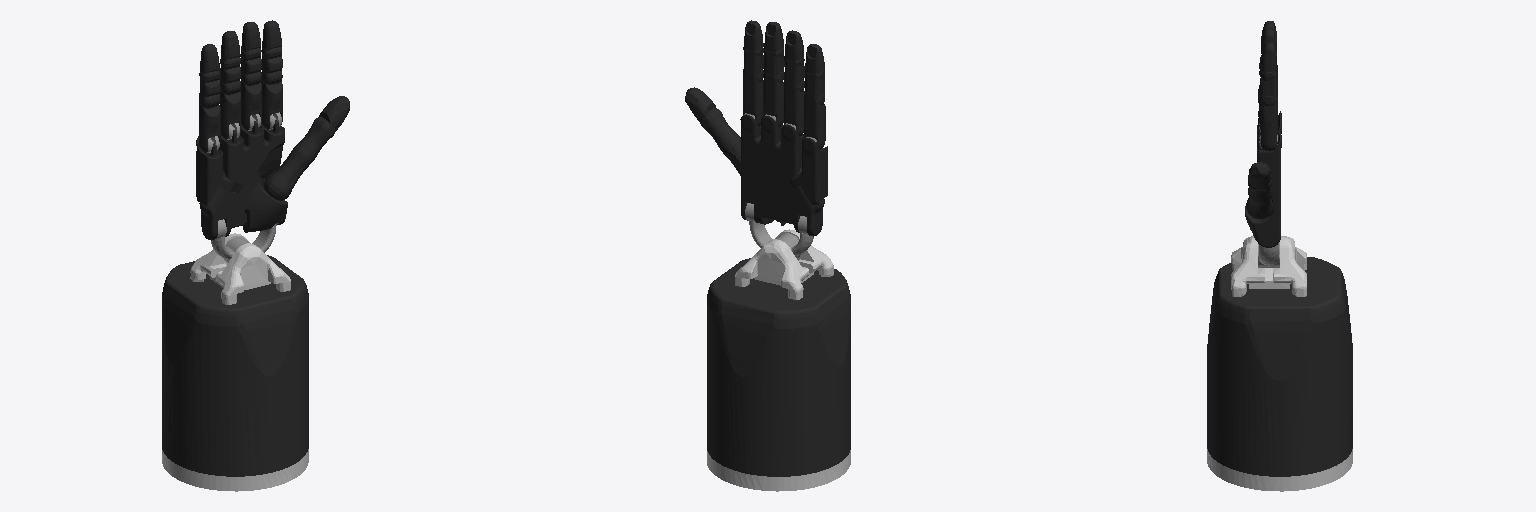
--- What the picture shows (computed from the rendered views, not written in the file) ---
The picture shows the robot from 3 angles, left to right: view 1: azimuth 30°, elevation 25°; view 2: azimuth 150°, elevation 25°; view 3: azimuth 270°, elevation 25°; orthographic projection.
Model shadowhand_motor with 32 links and 31 joints (24 revolute, 7 fixed), rooted at rh_forearm, posed all joints at 0.
Visible links, largest first — view 1: rh_forearm, rh_palm, rh_lfmetacarpal, rh_thproximal, rh_wrist, rh_thmiddle, rh_lfproximal, rh_mfproximal, rh_ffproximal, rh_rfproximal, rh_mfmiddle, rh_lfmiddle (+3 smaller); view 2: rh_forearm, rh_palm, rh_lfmetacarpal, rh_wrist, rh_thmiddle, rh_lfproximal, rh_mfproximal, rh_rfproximal, rh_ffproximal, rh_thdistal, rh_mfmiddle, rh_rfmiddle (+2 smaller); view 3: rh_forearm, rh_palm, rh_ffproximal, rh_ffmiddle.
Link boxes in pixels (bbox=[...]): rh_forearm: bbox=[162, 233, 308, 491]; rh_palm: bbox=[199, 120, 287, 240]; rh_lfmetacarpal: bbox=[196, 136, 237, 205]; rh_thproximal: bbox=[264, 149, 308, 200]; rh_wrist: bbox=[211, 219, 278, 262]; rh_thmiddle: bbox=[293, 116, 335, 164]; rh_lfproximal: bbox=[199, 103, 220, 152]; rh_mfproximal: bbox=[240, 81, 261, 130]; rh_ffproximal: bbox=[261, 81, 282, 129]; rh_rfproximal: bbox=[220, 92, 240, 139]; rh_mfmiddle: bbox=[241, 48, 261, 85]; rh_lfmiddle: bbox=[199, 70, 220, 108]; rh_forearm: bbox=[707, 229, 850, 491]; rh_palm: bbox=[740, 114, 824, 236]; rh_lfmetacarpal: bbox=[788, 138, 827, 204]; rh_wrist: bbox=[745, 203, 813, 257]; rh_thmiddle: bbox=[700, 108, 740, 154]; rh_lfproximal: bbox=[804, 99, 825, 149]; rh_mfproximal: bbox=[763, 77, 783, 127]; rh_rfproximal: bbox=[784, 85, 804, 135]; rh_ffproximal: bbox=[743, 75, 762, 126]; rh_thdistal: bbox=[685, 87, 715, 121]; rh_mfmiddle: bbox=[763, 48, 784, 82]; rh_rfmiddle: bbox=[784, 56, 804, 91]; rh_forearm: bbox=[1207, 236, 1352, 491]; rh_palm: bbox=[1245, 113, 1281, 247]; rh_ffproximal: bbox=[1258, 99, 1277, 151]; rh_ffmiddle: bbox=[1259, 70, 1277, 105].
Bounding box of the posed robot: 0.1784 × 0.1351 × 0.4454 m (x, y, z).
23 mesh visuals loaded from 11 distinct referenced files (11 Collada DAE).

robot.urdf — shadowhand_motor:
<?xml version="1.0" ?>
<!-- =================================================================================== -->
<!-- |    This document was autogenerated by xacro from shadowhand_motor.urdf.xacro    | -->
<!-- |    EDITING THIS FILE BY HAND IS NOT RECOMMENDED                                 | -->
<!-- =================================================================================== -->
<robot name="shadowhand_motor" xmlns:body="http://playerstage.sourceforge.net/gazebo/xmlschema/#body" xmlns:controller="http://playerstage.sourceforge.net/gazebo/xmlschema/#controller" xmlns:geom="http://playerstage.sourceforge.net/gazebo/xmlschema/#geom" xmlns:interface="http://playerstage.sourceforge.net/gazebo/xmlschema/#interface" xmlns:joint="http://playerstage.sourceforge.net/gazebo/xmlschema/#slider" xmlns:sensor="http://playerstage.sourceforge.net/gazebo/xmlschema/#sensor" xmlns:xacro="http://www.ros.org/wiki/xacro">
  <material name="Blue">
    <color rgba="0.0 0.0 0.8 1.0"/>
  </material>
  <material name="Green">
    <color rgba="0.0 0.8 0.0 1.0"/>
  </material>
  <material name="BiotacGreen">
    <color rgba="0.31 0.85 0.42 1.0"/>
  </material>
  <material name="Grey">
    <color rgba="0.2 0.2 0.2 1.0"/>
  </material>
  <material name="LightGrey">
    <color rgba="0.6 0.6 0.6 1.0"/>
  </material>
  <material name="Red">
    <color rgba="0.8 0.0 0.0 1.0"/>
  </material>
  <material name="White">
    <color rgba="1.0 1.0 1.0 1.0"/>
  </material>
  <gazebo>
    <plugin filename="libgazebo_ros_control.so" name="gazebo_ros_control">
      <robotSimType>sr_gazebo_sim/SrGazeboHWSim</robotSimType>
    </plugin>
  </gazebo>
  <!-- hand with cylindrical base drifts in gazebo, attach it to the world -->
  <!--link name="world"/>
  <joint name="rh_world_joint" type="fixed">
    <parent link="world"/>
    <child link="rh_forearm"/>
    <origin rpy="0.0 0.0 0.0" xyz="0.0 0.0 0.0"/>
  </joint-->  <!-- in pybullet, the inertia need to be specified even for dummy links, otherwise it will put an identity inertia and a mass of 1 by default. The base link should be removed if you want the robot to not have a fixed base! -->
  <link name="rh_forearm">
    <inertial>
      <origin rpy="0 0 0" xyz="0 0 0.09"/>
      <mass value="3.0"/>
      <inertia ixx="0.0138" ixy="0.0" ixz="0.0" iyy="0.0138" iyz="0.0" izz="0.00744"/>
    </inertial>
    <visual>
      <origin rpy="0 0 0" xyz="0 0 0"/>
      <geometry name="rh_forearm_visual">
        <mesh filename="meshes/forearm.dae" scale="0.001 0.001 0.001"/>
      </geometry>
      <material name="light_grey"/>
    </visual>
    <collision>
      <origin rpy="0 0 0" xyz="0 0 0.092"/>
      <geometry name="rh_forearm_collision">
        <cylinder length="0.184" radius="0.07"/>
      </geometry>
      <material name="dark_grey">
        <color rgba="0.21961 0.21961 0.21961 1.0"/>
      </material>
    </collision>
    <!-- wrist mount -->
    <collision>
      <origin rpy="0 0.78 0" xyz="0 -0.01 0.181"/>
      <geometry>
        <box size="0.07 0.07 0.07"/>
      </geometry>
    </collision>
  </link>
  <gazebo reference="rh_forearm">
    <selfCollide>false</selfCollide>
  </gazebo>
  <link name="rh_wrist">
    <inertial>
      <origin rpy="0 0 0" xyz="0 0 0.029"/>
      <mass value="0.1"/>
      <inertia ixx="0.000035" ixy="0.0" ixz="0.0" iyy="0.000064" iyz="0.0" izz="0.0000438"/>
    </inertial>
    <visual>
      <origin rpy="0 0 0" xyz="0 0 0"/>
      <geometry name="rh_wrist_visual">
        <mesh filename="meshes/wrist.dae" scale="0.001 0.001 0.001"/>
      </geometry>
      <material name="LightGrey"/>
    </visual>
    <collision>
      <origin rpy="1.5708 1.5708 0" xyz="0 0 0"/>
      <geometry name="rh_wrist_collision_geom">
        <cylinder length="0.030" radius="0.0135"/>
      </geometry>
    </collision>
    <collision>
      <origin rpy="0 1.5708 0" xyz="-0.026 0 0.034"/>
      <geometry>
        <cylinder length="0.010" radius="0.011"/>
      </geometry>
    </collision>
    <collision>
      <origin rpy="0 1.5708 0" xyz="0.031 0 0.034"/>
      <geometry>
        <cylinder length="0.010" radius="0.011"/>
      </geometry>
    </collision>
    <collision>
      <origin rpy="0 0.7854 0" xyz="-0.021 0 0.011"/>
      <geometry>
        <box size="0.027 0.018 0.010"/>
      </geometry>
    </collision>
    <collision>
      <origin rpy="0 -0.7854 0" xyz="0.026 0 0.010"/>
      <geometry>
        <box size="0.027 0.018 0.010"/>
      </geometry>
    </collision>
  </link>
  <gazebo reference="rh_wrist">
    <material>Gazebo/White</material>
    <selfCollide>false</selfCollide>
  </gazebo>
  <joint name="rh_WRJ2" type="revolute">
    <parent link="rh_forearm"/>
    <child link="rh_wrist"/>
    <origin rpy="0 0 0" xyz="0 -0.010 0.213"/>
    <axis xyz="0 1.0 0"/>
    <limit effort="10" lower="-0.523598775598" upper="0.174532925199" velocity="2.0"/>
    <dynamics damping="0.1"/>
  </joint>
  <gazebo reference="rh_WRJ2">
    <provideFeedback>1</provideFeedback>
    <implicitSpringDamper>1</implicitSpringDamper>
  </gazebo>
  <transmission name="rh_wrist_transmission">
    <type>sr_mechanism_model/SimpleTransmission</type>
    <actuator name="rh_WRJ2">
      <mechanicalReduction>1</mechanicalReduction>
    </actuator>
    <joint name="rh_WRJ2">
      <hardwareInterface>EffortJointInterface</hardwareInterface>
      <hardwareInterface>PositionJointInterface</hardwareInterface>
    </joint>
  </transmission>
  <link name="rh_palm">
    <inertial>
      <origin rpy="0 0 0" xyz="0 0 0.035"/>
      <mass value="0.3"/>
      <inertia ixx="0.0003581" ixy="0.0" ixz="0.0" iyy="0.0005287" iyz="0.0" izz="0.000191"/>
    </inertial>
    <visual>
      <origin rpy="0 0 0" xyz="0 0 0"/>
      <geometry name="rh_palm_visual">
        <mesh filename="meshes/palm.dae" scale="0.001 0.001 0.001"/>
      </geometry>
      <material name="Grey"/>
    </visual>
    <collision>
      <origin rpy="0 0 0" xyz="0.011 0.0085 0.038"/>
      <geometry name="rh_palm_collision_geom">
        <box size="0.062 0.007 0.098"/>
      </geometry>
    </collision>
    <collision>
      <origin rpy="0 0 0" xyz="-0.002 -0.0035 0.038"/>
      <geometry>
        <box size="0.036 0.017 0.098"/>
      </geometry>
    </collision>
    <!-- palm complement below first finger -->
    <collision>
      <origin rpy="0 0 0" xyz="0.029 -0.0035 0.082"/>
      <geometry>
        <box size="0.026 0.017 0.010"/>
      </geometry>
    </collision>
    <collision>
      <origin rpy="0.2 0 0.25" xyz="0.0265 -0.001 0.070"/>
      <geometry>
        <box size="0.026 0.014 0.018"/>
      </geometry>
    </collision>
    <!-- thumb pulp side -->
    <collision>
      <origin rpy="0 0 0" xyz="0.0315 -0.0085 0.001"/>
      <geometry>
        <box size="0.021 0.027 0.024"/>
      </geometry>
    </collision>
    <!-- thumb pulp central -->
    <collision>
      <origin rpy="0 0 -0.48" xyz="0.0125 -0.015 0.009"/>
      <geometry>
        <box size="0.022 0.005 0.040"/>
      </geometry>
    </collision>
    <!-- above middle finger-->
    <collision>
      <origin rpy="0 0 0" xyz="0.011 0 0.089"/>
      <geometry>
        <box size="0.018 0.024 0.004"/>
      </geometry>
    </collision>
    <!-- metacarpal side-->
    <collision>
      <origin rpy="0 0 0" xyz="-0.03 0 0.009"/>
      <geometry>
        <box size="0.020 0.024 0.040"/>
      </geometry>
    </collision>
  </link>
  <joint name="rh_ee_fixed_joint" type="fixed">
    <parent link="rh_palm"/>
    <child link="rh_manipulator"/>
    <origin rpy="0.0 0.0 0.0" xyz="0.0 0.0 0.05"/>
  </joint>
  <link name="rh_manipulator"/>
  <joint name="rh_WRJ1" type="revolute">
    <parent link="rh_wrist"/>
    <child link="rh_palm"/>
    <origin rpy="0 0 0" xyz="0 0 0.034"/>
    <axis xyz="1 0 0"/>
    <limit effort="30" lower="-0.698131700798" upper="0.488692190558" velocity="2.0"/>
    <dynamics damping="0.1"/>
  </joint>
  <gazebo reference="rh_WRJ1">
    <provideFeedback>1</provideFeedback>
    <implicitSpringDamper>1</implicitSpringDamper>
  </gazebo>
  <link name="rh_imu"/>
  <joint name="rh_palm_to_imu" type="fixed">
    <parent link="rh_palm"/>
    <child link="rh_imu"/>
    <origin rpy="-1.5707963 3.141592 0.0" xyz="0.01785 0.00765 0.049125"/>
  </joint>
  <sensor name="rh_imu" update_rate="100">
    <parent link="rh_imu"/>
    <origin rpy="0 0 0" xyz="0 0 0"/>
  </sensor>
  <transmission name="rh_palm_transmission">
    <type>sr_mechanism_model/SimpleTransmission</type>
    <actuator name="rh_WRJ1">
      <mechanicalReduction>1</mechanicalReduction>
    </actuator>
    <joint name="rh_WRJ1">
      <hardwareInterface>EffortJointInterface</hardwareInterface>
      <hardwareInterface>PositionJointInterface</hardwareInterface>
    </joint>
  </transmission>
  <!-- prefix can be anything but usually is "r_" or  "l_" for right and left hands distinction -->
  <gazebo reference="rh_palm">
    <sensor name="rh_palm_contact" type="contact">
      <always_on>1</always_on>
      <update_rate>1000.0</update_rate>
      <contact>
        <collision>rh_palm_collision</collision>
        <topic>rh_palm_collision</topic>
      </contact>
      <plugin filename="libgazebo_ros_bumper.so" name="rh_palm_gazebo_ros_bumper_controller">
        <alwaysOn>true</alwaysOn>
        <frameName>rh_palm</frameName>
        <updateRate>100.0</updateRate>
        <bumperTopicName>contacts/rh_palm</bumperTopicName>
      </plugin>
    </sensor>
  </gazebo>
  <link name="rh_ffknuckle">
    <inertial>
      <origin rpy="0 0 0" xyz="0 0 0"/>
      <mass value="0.008"/>
      <inertia ixx="0.00000026" ixy="0.0" ixz="0.0" iyy="0.00000026" iyz="0.0" izz="0.00000032"/>
    </inertial>
    <visual>
      <origin rpy="0 0 0" xyz="0 0 0.0005"/>
      <geometry name="rh_ffknuckle_visual">
        <mesh filename="meshes/knuckle.dae" scale="0.001 0.001 0.001"/>
      </geometry>
      <material name="LightGrey"/>
    </visual>
    <collision>
      <origin rpy="0 1.5708 0" xyz="0 0 0"/>
      <geometry name="rh_ffknuckle_collision_geom">
        <cylinder length="0.014" radius="0.007"/>
      </geometry>
    </collision>
  </link>
  <joint name="rh_FFJ4" type="revolute">
    <parent link="rh_palm"/>
    <child link="rh_ffknuckle"/>
    <!--<origin xyz="0.033 0 0.095" rpy="0 0 0" />-->
    <origin rpy="0 0 0" xyz="0.033 0 0.095"/>
    <axis xyz="0 -1.0 0"/>
    <limit effort="2" lower="-0.349065850399" upper="0.349065850399" velocity="2.0"/>
    <dynamics damping="0.1"/>
  </joint>
  <gazebo reference="rh_FFJ4">
    <provideFeedback>1</provideFeedback>
    <implicitSpringDamper>1</implicitSpringDamper>
  </gazebo>
  <transmission name="rh_ffknuckle_transmission">
    <type>sr_mechanism_model/SimpleTransmission</type>
    <actuator name="rh_FFJ4">
      <mechanicalReduction>1</mechanicalReduction>
    </actuator>
    <joint name="rh_FFJ4">
      <hardwareInterface>EffortJointInterface</hardwareInterface>
      <hardwareInterface>PositionJointInterface</hardwareInterface>
    </joint>
  </transmission>
  <!-- prefix can be anything but usually is "r_" or  "l_" for right and left hands distinction -->
  <gazebo reference="rh_ffknuckle">
    <sensor name="rh_ffknuckle_contact" type="contact">
      <always_on>1</always_on>
      <update_rate>1000.0</update_rate>
      <contact>
        <collision>rh_ffknuckle_collision</collision>
        <topic>rh_ffknuckle_collision</topic>
      </contact>
      <plugin filename="libgazebo_ros_bumper.so" name="rh_ffknuckle_gazebo_ros_bumper_controller">
        <alwaysOn>true</alwaysOn>
        <frameName>rh_ffknuckle</frameName>
        <updateRate>100.0</updateRate>
        <bumperTopicName>contacts/rh_ff/knuckle</bumperTopicName>
      </plugin>
    </sensor>
    <material>Gazebo/Grey</material>
  </gazebo>
  <link name="rh_ffproximal">
    <inertial>
      <mass value="0.030"/>
      <origin xyz="0 0 0.0225"/>
      <inertia ixx="0.0000098" ixy="0.0" ixz="0.0" iyy="0.00001" iyz="0.0" izz="0.0000018"/>
    </inertial>
    <visual>
      <origin rpy="0 0 0" xyz="0 0 0"/>
      <geometry name="rh_ffproximal_visual">
        <mesh filename="meshes/F3.dae" scale="0.001 0.001 0.001"/>
      </geometry>
      <material name="Grey"/>
    </visual>
    <collision>
      <origin rpy="0 0 0" xyz="0 0 0.025"/>
      <geometry name="rh_ffproximal_collision_geom">
        <cylinder length="0.040" radius="0.007"/>
      </geometry>
    </collision>
  </link>
  <joint name="rh_FFJ3" type="revolute">
    <parent link="rh_ffknuckle"/>
    <child link="rh_ffproximal"/>
    <origin rpy="0 0 0" xyz="0 0 0"/>
    <axis xyz="1 0 0"/>
    <limit effort="2" lower="0" upper="1.57079632679" velocity="2.0"/>
    <dynamics damping="0.1"/>
  </joint>
  <gazebo reference="rh_FFJ3">
    <provideFeedback>1</provideFeedback>
    <implicitSpringDamper>1</implicitSpringDamper>
  </gazebo>
  <transmission name="rh_ffproximal_transmission">
    <type>sr_mechanism_model/SimpleTransmission</type>
    <actuator name="rh_FFJ3">
      <mechanicalReduction>1</mechanicalReduction>
    </actuator>
    <joint name="rh_FFJ3">
      <hardwareInterface>EffortJointInterface</hardwareInterface>
      <hardwareInterface>PositionJointInterface</hardwareInterface>
    </joint>
  </transmission>
  <!-- prefix can be anything but usually is "r_" or  "l_" for right and left hands distinction -->
  <gazebo reference="rh_ffproximal">
    <sensor name="rh_ffproximal_contact" type="contact">
      <always_on>1</always_on>
      <update_rate>1000.0</update_rate>
      <contact>
        <collision>rh_ffproximal_collision</collision>
        <topic>rh_ffproximal_collision</topic>
      </contact>
      <plugin filename="libgazebo_ros_bumper.so" name="rh_ffproximal_gazebo_ros_bumper_controller">
        <alwaysOn>true</alwaysOn>
        <frameName>rh_ffproximal</frameName>
        <updateRate>100.0</updateRate>
        <bumperTopicName>contacts/rh_ff/proximal</bumperTopicName>
      </plugin>
    </sensor>
    <selfCollide>true</selfCollide>
  </gazebo>
  <link name="rh_ffmiddle">
    <inertial>
      <origin rpy="0 0 0" xyz="0 0 0.0125"/>
      <mass value="0.017"/>
      <inertia ixx="0.0000026" ixy="0.0" ixz="0.0" iyy="0.0000027" iyz="0.0" izz="0.00000087"/>
    </inertial>
    <visual>
      <origin rpy="0 0 0" xyz="0 0 0"/>
      <geometry name="rh_ffmiddle_visual">
        <mesh filename="meshes/F2.dae" scale="0.001 0.001 0.001"/>
      </geometry>
      <material name="Grey"/>
    </visual>
    <collision>
      <origin rpy="0 0 0" xyz="0 0 0.0125"/>
      <geometry name="rh_ffmiddle_collision_geom">
        <cylinder length="0.025" radius="0.007"/>
      </geometry>
    </collision>
    <collision>
      <origin rpy="0 0 0" xyz="0 0 0.0"/>
      <geometry>
        <sphere radius="0.007"/>
      </geometry>
    </collision>
    <collision>
      <origin rpy="0 0 0" xyz="0 0 0.025"/>
      <geometry>
        <sphere radius="0.007"/>
      </geometry>
    </collision>
  </link>
  <joint name="rh_FFJ2" type="revolute">
    <parent link="rh_ffproximal"/>
    <child link="rh_ffmiddle"/>
    <origin rpy="0 0 0" xyz="0 0 0.045"/>
    <axis xyz="1 0 0"/>
    <limit effort="2" lower="0" upper="1.57079632679" velocity="2.0"/>
    <dynamics damping="0.1"/>
  </joint>
  <gazebo reference="rh_FFJ2">
    <provideFeedback>1</provideFeedback>
    <implicitSpringDamper>1</implicitSpringDamper>
  </gazebo>
  <transmission name="rh_ffmiddle_transmission">
    <type>sr_mechanism_model/J0Transmission</type>
    <actuator name="rh_FFJ0">
      <mechanicalReduction>1</mechanicalReduction>
    </actuator>
    <joint name="rh_FFJ1">
      <hardwareInterface>EffortJointInterface</hardwareInterface>
      <hardwareInterface>PositionJointInterface</hardwareInterface>
    </joint>
    <secondJoint name="rh_FFJ2"/>
  </transmission>
  <!-- prefix can be anything but usually is "r_" or  "l_" for right and left hands distinction -->
  <gazebo reference="rh_ffmiddle">
    <sensor name="rh_ffmiddle_contact" type="contact">
      <always_on>1</always_on>
      <update_rate>1000.0</update_rate>
      <contact>
        <collision>rh_ffmiddle_collision</collision>
        <topic>rh_ffmiddle_collision</topic>
      </contact>
      <plugin filename="libgazebo_ros_bumper.so" name="rh_ffproximal_gazebo_ros_bumper_controller">
        <alwaysOn>true</alwaysOn>
        <frameName>rh_ffmiddle</frameName>
        <updateRate>100.0</updateRate>
        <bumperTopicName>contacts/rh_ff/middle</bumperTopicName>
      </plugin>
    </sensor>
    <selfCollide>true</selfCollide>
  </gazebo>
  <link name="rh_ffdistal">
    <inertial>
      <mass value="0.012"/>
      <origin xyz="0 0 0.012"/>
      <inertia ixx="0.00000094" ixy="0.0" ixz="0.0" iyy="0.0000011" iyz="0.0" izz="0.00000053"/>
    </inertial>
    <visual>
      <origin rpy="0 0 0" xyz="0 0 0"/>
      <geometry name="rh_ffdistal_visual">
        <!-- Standard distal  -->
        <mesh filename="meshes/F1.dae" scale="0.001 0.001 0.001"/>
      </geometry>
      <material name="Grey"/>
    </visual>
    <collision>
      <origin rpy="0 0 0" xyz="0 0 0"/>
      <geometry name="rh_ffdistal_collision_geom">
        <!-- Standard distal  -->
        <mesh filename="meshes/F1.dae" scale="0.001 0.001 0.001"/>
      </geometry>
    </collision>
  </link>
  <joint name="rh_FFJ1" type="revolute">
    <parent link="rh_ffmiddle"/>
    <child link="rh_ffdistal"/>
    <origin rpy="0 0 0" xyz="0 0 0.025"/>
    <axis xyz="1 0 0"/>
    <!-- standard distal joint -->
    <limit effort="2" lower="0" upper="1.57079632679" velocity="2.0"/>
    <dynamics damping="0.1"/>
  </joint>
  <gazebo reference="rh_FFJ1">
    <provideFeedback>1</provideFeedback>
    <implicitSpringDamper>1</implicitSpringDamper>
  </gazebo>
  <link name="rh_fftip">
    <inertial>
      <mass value="0.001"/>
      <inertia ixx="0.0" ixy="0.0" ixz="0.0" iyy="0.0" iyz="0.0" izz="0.0"/>
    </inertial>
  </link>
  <joint name="rh_FFtip" type="fixed">
    <parent link="rh_ffdistal"/>
    <child link="rh_fftip"/>
    <origin rpy="0 0 0" xyz="0 0 0.026"/>
  </joint>
  <!-- prefix can be anything but usually is "r_" or  "l_" for right and left hands distinction -->
  <gazebo reference="rh_ffdistal">
    <sensor name="rh_ffdistal_contact" type="contact">
      <always_on>1</always_on>
      <update_rate>1000.0</update_rate>
      <contact>
        <collision>rh_ffdistal_collision</collision>
        <topic>rh_ffdistal_collision</topic>
      </contact>
      <plugin filename="libgazebo_ros_bumper.so" name="rh_ffdistal_gazebo_ros_bumper_controller">
        <alwaysOn>true</alwaysOn>
        <frameName>rh_ffdistal</frameName>
        <updateRate>100.0</updateRate>
        <bumperTopicName>contacts/rh_ff/distal</bumperTopicName>
      </plugin>
    </sensor>
    <mu1 value="500.0"/>
    <mu2 value="500.0"/>
    <kp value="10000000.0"/>
    <kd value="1.0"/>
    <selfCollide>true</selfCollide>
  </gazebo>
  <link name="rh_mfknuckle">
    <inertial>
      <origin rpy="0 0 0" xyz="0 0 0"/>
      <mass value="0.008"/>
      <inertia ixx="0.00000026" ixy="0.0" ixz="0.0" iyy="0.00000026" iyz="0.0" izz="0.00000032"/>
    </inertial>
    <visual>
      <origin rpy="0 0 0" xyz="0 0 0.0005"/>
      <geometry name="rh_mfknuckle_visual">
        <mesh filename="meshes/knuckle.dae" scale="0.001 0.001 0.001"/>
      </geometry>
      <material name="LightGrey"/>
    </visual>
    <collision>
      <origin rpy="0 1.5708 0" xyz="0 0 0"/>
      <geometry name="rh_mfknuckle_collision_geom">
        <cylinder length="0.014" radius="0.007"/>
      </geometry>
    </collision>
  </link>
  <joint name="rh_MFJ4" type="revolute">
    <parent link="rh_palm"/>
    <child link="rh_mfknuckle"/>
    <!--<origin xyz="0.033 0 0.095" rpy="0 0 0" />-->
    <origin rpy="0 0 0" xyz="0.011 0 0.099"/>
    <axis xyz="0 -1.0 0"/>
    <limit effort="2" lower="-0.349065850399" upper="0.349065850399" velocity="2.0"/>
    <dynamics damping="0.1"/>
  </joint>
  <gazebo reference="rh_MFJ4">
    <provideFeedback>1</provideFeedback>
    <implicitSpringDamper>1</implicitSpringDamper>
  </gazebo>
  <transmission name="rh_mfknuckle_transmission">
    <type>sr_mechanism_model/SimpleTransmission</type>
    <actuator name="rh_MFJ4">
      <mechanicalReduction>1</mechanicalReduction>
    </actuator>
    <joint name="rh_MFJ4">
      <hardwareInterface>EffortJointInterface</hardwareInterface>
      <hardwareInterface>PositionJointInterface</hardwareInterface>
    </joint>
  </transmission>
  <!-- prefix can be anything but usually is "r_" or  "l_" for right and left hands distinction -->
  <gazebo reference="rh_mfknuckle">
    <sensor name="rh_mfknuckle_contact" type="contact">
      <always_on>1</always_on>
      <update_rate>1000.0</update_rate>
      <contact>
        <collision>rh_mfknuckle_collision</collision>
        <topic>rh_mfknuckle_collision</topic>
      </contact>
      <plugin filename="libgazebo_ros_bumper.so" name="rh_mfknuckle_gazebo_ros_bumper_controller">
        <alwaysOn>true</alwaysOn>
        <frameName>rh_mfknuckle</frameName>
        <updateRate>100.0</updateRate>
        <bumperTopicName>contacts/rh_mf/knuckle</bumperTopicName>
      </plugin>
    </sensor>
    <material>Gazebo/Grey</material>
  </gazebo>
  <link name="rh_mfproximal">
    <inertial>
      <mass value="0.030"/>
      <origin xyz="0 0 0.0225"/>
      <inertia ixx="0.0000098" ixy="0.0" ixz="0.0" iyy="0.00001" iyz="0.0" izz="0.0000018"/>
    </inertial>
    <visual>
      <origin rpy="0 0 0" xyz="0 0 0"/>
      <geometry name="rh_mfproximal_visual">
        <mesh filename="meshes/F3.dae" scale="0.001 0.001 0.001"/>
      </geometry>
      <material name="Grey"/>
    </visual>
    <collision>
      <origin rpy="0 0 0" xyz="0 0 0.025"/>
      <geometry name="rh_mfproximal_collision_geom">
        <cylinder length="0.040" radius="0.007"/>
      </geometry>
    </collision>
  </link>
  <joint name="rh_MFJ3" type="revolute">
    <parent link="rh_mfknuckle"/>
    <child link="rh_mfproximal"/>
    <origin rpy="0 0 0" xyz="0 0 0"/>
    <axis xyz="1 0 0"/>
    <limit effort="2" lower="0" upper="1.57079632679" velocity="2.0"/>
    <dynamics damping="0.1"/>
  </joint>
  <gazebo reference="rh_MFJ3">
    <provideFeedback>1</provideFeedback>
    <implicitSpringDamper>1</implicitSpringDamper>
  </gazebo>
  <transmission name="rh_mfproximal_transmission">
    <type>sr_mechanism_model/SimpleTransmission</type>
    <actuator name="rh_MFJ3">
      <mechanicalReduction>1</mechanicalReduction>
    </actuator>
    <joint name="rh_MFJ3">
      <hardwareInterface>EffortJointInterface</hardwareInterface>
      <hardwareInterface>PositionJointInterface</hardwareInterface>
    </joint>
  </transmission>
  <!-- prefix can be anything but usually is "r_" or  "l_" for right and left hands distinction -->
  <gazebo reference="rh_mfproximal">
    <sensor name="rh_mfproximal_contact" type="contact">
      <always_on>1</always_on>
      <update_rate>1000.0</update_rate>
      <contact>
        <collision>rh_mfproximal_collision</collision>
        <topic>rh_mfproximal_collision</topic>
      </contact>
      <plugin filename="libgazebo_ros_bumper.so" name="rh_mfproximal_gazebo_ros_bumper_controller">
        <alwaysOn>true</alwaysOn>
        <frameName>rh_mfproximal</frameName>
        <updateRate>100.0</updateRate>
        <bumperTopicName>contacts/rh_mf/proximal</bumperTopicName>
      </plugin>
    </sensor>
    <selfCollide>true</selfCollide>
  </gazebo>
  <link name="rh_mfmiddle">
    <inertial>
      <origin rpy="0 0 0" xyz="0 0 0.0125"/>
      <mass value="0.017"/>
      <inertia ixx="0.0000026" ixy="0.0" ixz="0.0" iyy="0.0000027" iyz="0.0" izz="0.00000087"/>
    </inertial>
    <visual>
      <origin rpy="0 0 0" xyz="0 0 0"/>
      <geometry name="rh_mfmiddle_visual">
        <mesh filename="meshes/F2.dae" scale="0.001 0.001 0.001"/>
      </geometry>
      <material name="Grey"/>
    </visual>
    <collision>
      <origin rpy="0 0 0" xyz="0 0 0.0125"/>
      <geometry name="rh_mfmiddle_collision_geom">
        <cylinder length="0.025" radius="0.007"/>
      </geometry>
    </collision>
    <collision>
      <origin rpy="0 0 0" xyz="0 0 0.0"/>
      <geometry>
        <sphere radius="0.007"/>
      </geometry>
    </collision>
    <collision>
      <origin rpy="0 0 0" xyz="0 0 0.025"/>
      <geometry>
        <sphere radius="0.007"/>
      </geometry>
    </collision>
  </link>
  <joint name="rh_MFJ2" type="revolute">
    <parent link="rh_mfproximal"/>
    <child link="rh_mfmiddle"/>
    <origin rpy="0 0 0" xyz="0 0 0.045"/>
    <axis xyz="1 0 0"/>
    <limit effort="2" lower="0" upper="1.57079632679" velocity="2.0"/>
    <dynamics damping="0.1"/>
  </joint>
  <gazebo reference="rh_MFJ2">
    <provideFeedback>1</provideFeedback>
    <implicitSpringDamper>1</implicitSpringDamper>
  </gazebo>
  <transmission name="rh_mfmiddle_transmission">
    <type>sr_mechanism_model/J0Transmission</type>
    <actuator name="rh_MFJ0">
      <mechanicalReduction>1</mechanicalReduction>
    </actuator>
    <joint name="rh_MFJ1">
      <hardwareInterface>EffortJointInterface</hardwareInterface>
      <hardwareInterface>PositionJointInterface</hardwareInterface>
    </joint>
    <secondJoint name="rh_MFJ2"/>
  </transmission>
  <!-- prefix can be anything but usually is "r_" or  "l_" for right and left hands distinction -->
  <gazebo reference="rh_mfmiddle">
    <sensor name="rh_mfmiddle_contact" type="contact">
      <always_on>1</always_on>
      <update_rate>1000.0</update_rate>
      <contact>
        <collision>rh_mfmiddle_collision</collision>
        <topic>rh_mfmiddle_collision</topic>
      </contact>
      <plugin filename="libgazebo_ros_bumper.so" name="rh_mfproximal_gazebo_ros_bumper_controller">
        <alwaysOn>true</alwaysOn>
        <frameName>rh_mfmiddle</frameName>
        <updateRate>100.0</updateRate>
        <bumperTopicName>contacts/rh_mf/middle</bumperTopicName>
      </plugin>
    </sensor>
    <selfCollide>true</selfCollide>
  </gazebo>
  <link name="rh_mfdistal">
    <inertial>
      <mass value="0.012"/>
      <origin xyz="0 0 0.012"/>
      <inertia ixx="0.00000094" ixy="0.0" ixz="0.0" iyy="0.0000011" iyz="0.0" izz="0.00000053"/>
    </inertial>
    <visual>
      <origin rpy="0 0 0" xyz="0 0 0"/>
      <geometry name="rh_mfdistal_visual">
        <!-- Standard distal  -->
        <mesh filename="meshes/F1.dae" scale="0.001 0.001 0.001"/>
      </geometry>
      <material name="Grey"/>
    </visual>
    <collision>
      <origin rpy="0 0 0" xyz="0 0 0"/>
      <geometry name="rh_mfdistal_collision_geom">
        <!-- Standard distal  -->
        <mesh filename="meshes/F1.dae" scale="0.001 0.001 0.001"/>
      </geometry>
    </collision>
  </link>
  <joint name="rh_MFJ1" type="revolute">
    <parent link="rh_mfmiddle"/>
    <child link="rh_mfdistal"/>
    <origin rpy="0 0 0" xyz="0 0 0.025"/>
    <axis xyz="1 0 0"/>
    <!-- standard distal joint -->
    <limit effort="2" lower="0" upper="1.57079632679" velocity="2.0"/>
    <dynamics damping="0.1"/>
  </joint>
  <gazebo reference="rh_MFJ1">
    <provideFeedback>1</provideFeedback>
    <implicitSpringDamper>1</implicitSpringDamper>
  </gazebo>
  <link name="rh_mftip">
    <inertial>
      <mass value="0.001"/>
      <inertia ixx="0.0" ixy="0.0" ixz="0.0" iyy="0.0" iyz="0.0" izz="0.0"/>
    </inertial>
  </link>
  <joint name="rh_MFtip" type="fixed">
    <parent link="rh_mfdistal"/>
    <child link="rh_mftip"/>
    <origin rpy="0 0 0" xyz="0 0 0.026"/>
  </joint>
  <!-- prefix can be anything but usually is "r_" or  "l_" for right and left hands distinction -->
  <gazebo reference="rh_mfdistal">
    <sensor name="rh_mfdistal_contact" type="contact">
      <always_on>1</always_on>
      <update_rate>1000.0</update_rate>
      <contact>
        <collision>rh_mfdistal_collision</collision>
        <topic>rh_mfdistal_collision</topic>
      </contact>
      <plugin filename="libgazebo_ros_bumper.so" name="rh_mfdistal_gazebo_ros_bumper_controller">
        <alwaysOn>true</alwaysOn>
        <frameName>rh_mfdistal</frameName>
        <updateRate>100.0</updateRate>
        <bumperTopicName>contacts/rh_mf/distal</bumperTopicName>
      </plugin>
    </sensor>
    <mu1 value="500.0"/>
    <mu2 value="500.0"/>
    <kp value="10000000.0"/>
    <kd value="1.0"/>
    <selfCollide>true</selfCollide>
  </gazebo>
  <link name="rh_rfknuckle">
    <inertial>
      <origin rpy="0 0 0" xyz="0 0 0"/>
      <mass value="0.008"/>
      <inertia ixx="0.00000026" ixy="0.0" ixz="0.0" iyy="0.00000026" iyz="0.0" izz="0.00000032"/>
    </inertial>
    <visual>
      <origin rpy="0 0 0" xyz="0 0 0.0005"/>
      <geometry name="rh_rfknuckle_visual">
        <mesh filename="meshes/knuckle.dae" scale="0.001 0.001 0.001"/>
      </geometry>
      <material name="LightGrey"/>
    </visual>
    <collision>
      <origin rpy="0 1.5708 0" xyz="0 0 0"/>
      <geometry name="rh_rfknuckle_collision_geom">
        <cylinder length="0.014" radius="0.007"/>
      </geometry>
    </collision>
  </link>
  <joint name="rh_RFJ4" type="revolute">
    <parent link="rh_palm"/>
    <child link="rh_rfknuckle"/>
    <!--<origin xyz="0.033 0 0.095" rpy="0 0 0" />-->
    <origin rpy="0 0 0" xyz="-0.011 0 0.095"/>
    <axis xyz="0 1.0 0"/>
    <limit effort="2" lower="-0.349065850399" upper="0.349065850399" velocity="2.0"/>
    <dynamics damping="0.1"/>
  </joint>
  <gazebo reference="rh_RFJ4">
    <provideFeedback>1</provideFeedback>
    <implicitSpringDamper>1</implicitSpringDamper>
  </gazebo>
  <transmission name="rh_rfknuckle_transmission">
    <type>sr_mechanism_model/SimpleTransmission</type>
    <actuator name="rh_RFJ4">
      <mechanicalReduction>1</mechanicalReduction>
    </actuator>
    <joint name="rh_RFJ4">
      <hardwareInterface>EffortJointInterface</hardwareInterface>
      <hardwareInterface>PositionJointInterface</hardwareInterface>
    </joint>
  </transmission>
  <!-- prefix can be anything but usually is "r_" or  "l_" for right and left hands distinction -->
  <gazebo reference="rh_rfknuckle">
    <sensor name="rh_rfknuckle_contact" type="contact">
      <always_on>1</always_on>
      <update_rate>1000.0</update_rate>
      <contact>
        <collision>rh_rfknuckle_collision</collision>
        <topic>rh_rfknuckle_collision</topic>
      </contact>
      <plugin filename="libgazebo_ros_bumper.so" name="rh_rfknuckle_gazebo_ros_bumper_controller">
        <alwaysOn>true</alwaysOn>
        <frameName>rh_rfknuckle</frameName>
        <updateRate>100.0</updateRate>
        <bumperTopicName>contacts/rh_rf/knuckle</bumperTopicName>
      </plugin>
    </sensor>
    <material>Gazebo/Grey</material>
  </gazebo>
  <link name="rh_rfproximal">
    <inertial>
      <mass value="0.030"/>
      <origin xyz="0 0 0.0225"/>
      <inertia ixx="0.0000098" ixy="0.0" ixz="0.0" iyy="0.00001" iyz="0.0" izz="0.0000018"/>
    </inertial>
    <visual>
      <origin rpy="0 0 0" xyz="0 0 0"/>
      <geometry name="rh_rfproximal_visual">
        <mesh filename="meshes/F3.dae" scale="0.001 0.001 0.001"/>
      </geometry>
      <material name="Grey"/>
    </visual>
    <collision>
      <origin rpy="0 0 0" xyz="0 0 0.025"/>
      <geometry name="rh_rfproximal_collision_geom">
        <cylinder length="0.040" radius="0.007"/>
      </geometry>
    </collision>
  </link>
  <joint name="rh_RFJ3" type="revolute">
    <parent link="rh_rfknuckle"/>
    <child link="rh_rfproximal"/>
    <origin rpy="0 0 0" xyz="0 0 0"/>
    <axis xyz="1 0 0"/>
    <limit effort="2" lower="0" upper="1.57079632679" velocity="2.0"/>
    <dynamics damping="0.1"/>
  </joint>
  <gazebo reference="rh_RFJ3">
    <provideFeedback>1</provideFeedback>
    <implicitSpringDamper>1</implicitSpringDamper>
  </gazebo>
  <transmission name="rh_rfproximal_transmission">
    <type>sr_mechanism_model/SimpleTransmission</type>
    <actuator name="rh_RFJ3">
      <mechanicalReduction>1</mechanicalReduction>
    </actuator>
    <joint name="rh_RFJ3">
      <hardwareInterface>EffortJointInterface</hardwareInterface>
      <hardwareInterface>PositionJointInterface</hardwareInterface>
    </joint>
  </transmission>
  <!-- prefix can be anything but usually is "r_" or  "l_" for right and left hands distinction -->
  <gazebo reference="rh_rfproximal">
    <sensor name="rh_rfproximal_contact" type="contact">
      <always_on>1</always_on>
      <update_rate>1000.0</update_rate>
      <contact>
        <collision>rh_rfproximal_collision</collision>
        <topic>rh_rfproximal_collision</topic>
      </contact>
      <plugin filename="libgazebo_ros_bumper.so" name="rh_rfproximal_gazebo_ros_bumper_controller">
        <alwaysOn>true</alwaysOn>
        <frameName>rh_rfproximal</frameName>
        <updateRate>100.0</updateRate>
        <bumperTopicName>contacts/rh_rf/proximal</bumperTopicName>
      </plugin>
    </sensor>
    <selfCollide>true</selfCollide>
  </gazebo>
  <link name="rh_rfmiddle">
    <inertial>
      <origin rpy="0 0 0" xyz="0 0 0.0125"/>
      <mass value="0.017"/>
      <inertia ixx="0.0000026" ixy="0.0" ixz="0.0" iyy="0.0000027" iyz="0.0" izz="0.00000087"/>
    </inertial>
    <visual>
      <origin rpy="0 0 0" xyz="0 0 0"/>
      <geometry name="rh_rfmiddle_visual">
        <mesh filename="meshes/F2.dae" scale="0.001 0.001 0.001"/>
      </geometry>
      <material name="Grey"/>
    </visual>
    <collision>
      <origin rpy="0 0 0" xyz="0 0 0.0125"/>
      <geometry name="rh_rfmiddle_collision_geom">
        <cylinder length="0.025" radius="0.007"/>
      </geometry>
    </collision>
    <collision>
      <origin rpy="0 0 0" xyz="0 0 0.0"/>
      <geometry>
        <sphere radius="0.007"/>
      </geometry>
    </collision>
    <collision>
      <origin rpy="0 0 0" xyz="0 0 0.025"/>
      <geometry>
        <sphere radius="0.007"/>
      </geometry>
    </collision>
  </link>
  <joint name="rh_RFJ2" type="revolute">
    <parent link="rh_rfproximal"/>
    <child link="rh_rfmiddle"/>
    <origin rpy="0 0 0" xyz="0 0 0.045"/>
    <axis xyz="1 0 0"/>
    <limit effort="2" lower="0" upper="1.57079632679" velocity="2.0"/>
    <dynamics damping="0.1"/>
  </joint>
  <gazebo reference="rh_RFJ2">
    <provideFeedback>1</provideFeedback>
    <implicitSpringDamper>1</implicitSpringDamper>
  </gazebo>
  <transmission name="rh_rfmiddle_transmission">
    <type>sr_mechanism_model/J0Transmission</type>
    <actuator name="rh_RFJ0">
      <mechanicalReduction>1</mechanicalReduction>
    </actuator>
    <joint name="rh_RFJ1">
      <hardwareInterface>EffortJointInterface</hardwareInterface>
      <hardwareInterface>PositionJointInterface</hardwareInterface>
    </joint>
    <secondJoint name="rh_RFJ2"/>
  </transmission>
  <!-- prefix can be anything but usually is "r_" or  "l_" for right and left hands distinction -->
  <gazebo reference="rh_rfmiddle">
    <sensor name="rh_rfmiddle_contact" type="contact">
      <always_on>1</always_on>
      <update_rate>1000.0</update_rate>
      <contact>
        <collision>rh_rfmiddle_collision</collision>
        <topic>rh_rfmiddle_collision</topic>
      </contact>
      <plugin filename="libgazebo_ros_bumper.so" name="rh_rfproximal_gazebo_ros_bumper_controller">
        <alwaysOn>true</alwaysOn>
        <frameName>rh_rfmiddle</frameName>
        <updateRate>100.0</updateRate>
        <bumperTopicName>contacts/rh_rf/middle</bumperTopicName>
      </plugin>
    </sensor>
    <selfCollide>true</selfCollide>
  </gazebo>
  <link name="rh_rfdistal">
    <inertial>
      <mass value="0.012"/>
      <origin xyz="0 0 0.012"/>
      <inertia ixx="0.00000094" ixy="0.0" ixz="0.0" iyy="0.0000011" iyz="0.0" izz="0.00000053"/>
    </inertial>
    <visual>
      <origin rpy="0 0 0" xyz="0 0 0"/>
      <geometry name="rh_rfdistal_visual">
        <!-- Standard distal  -->
        <mesh filename="meshes/F1.dae" scale="0.001 0.001 0.001"/>
      </geometry>
      <material name="Grey"/>
    </visual>
    <collision>
      <origin rpy="0 0 0" xyz="0 0 0"/>
      <geometry name="rh_rfdistal_collision_geom">
        <!-- Standard distal  -->
        <mesh filename="meshes/F1.dae" scale="0.001 0.001 0.001"/>
      </geometry>
    </collision>
  </link>
  <joint name="rh_RFJ1" type="revolute">
    <parent link="rh_rfmiddle"/>
    <child link="rh_rfdistal"/>
    <origin rpy="0 0 0" xyz="0 0 0.025"/>
    <axis xyz="1 0 0"/>
    <!-- standard distal joint -->
    <limit effort="2" lower="0" upper="1.57079632679" velocity="2.0"/>
    <dynamics damping="0.1"/>
  </joint>
  <gazebo reference="rh_RFJ1">
    <provideFeedback>1</provideFeedback>
    <implicitSpringDamper>1</implicitSpringDamper>
  </gazebo>
  <link name="rh_rftip">
    <inertial>
      <mass value="0.001"/>
      <inertia ixx="0.0" ixy="0.0" ixz="0.0" iyy="0.0" iyz="0.0" izz="0.0"/>
    </inertial>
  </link>
  <joint name="rh_RFtip" type="fixed">
    <parent link="rh_rfdistal"/>
    <child link="rh_rftip"/>
    <origin rpy="0 0 0" xyz="0 0 0.026"/>
  </joint>
  <!-- prefix can be anything but usually is "r_" or  "l_" for right and left hands distinction -->
  <gazebo reference="rh_rfdistal">
    <sensor name="rh_rfdistal_contact" type="contact">
      <always_on>1</always_on>
      <update_rate>1000.0</update_rate>
      <contact>
        <collision>rh_rfdistal_collision</collision>
        <topic>rh_rfdistal_collision</topic>
      </contact>
      <plugin filename="libgazebo_ros_bumper.so" name="rh_rfdistal_gazebo_ros_bumper_controller">
        <alwaysOn>true</alwaysOn>
        <frameName>rh_rfdistal</frameName>
        <updateRate>100.0</updateRate>
        <bumperTopicName>contacts/rh_rf/distal</bumperTopicName>
      </plugin>
    </sensor>
    <mu1 value="500.0"/>
    <mu2 value="500.0"/>
    <kp value="10000000.0"/>
    <kd value="1.0"/>
    <selfCollide>true</selfCollide>
  </gazebo>
  <link name="rh_lfmetacarpal">
    <inertial>
      <origin rpy="0 0 0" xyz="0 0 0.04"/>
      <mass value="0.030"/>
      <inertia ixx="0.0000145" ixy="0.0" ixz="0.0" iyy="0.00001638" iyz="0.0" izz="0.000004272"/>
    </inertial>
    <visual>
      <origin rpy="0 0 0" xyz="0 0 0"/>
      <geometry name="rh_lfmetacarpal_visual">
        <mesh filename="meshes/lfmetacarpal.dae" scale="0.001 0.001 0.001"/>
      </geometry>
      <material name="Grey"/>
    </visual>
    <collision>
      <origin rpy="0 0 0" xyz="0 0 0.038"/>
      <geometry name="rh_lfmetacarpal_collision_geom">
        <box size="0.018 0.024 0.040"/>
      </geometry>
    </collision>
  </link>
  <joint name="rh_LFJ5" type="revolute">
    <parent link="rh_palm"/>
    <child link="rh_lfmetacarpal"/>
    <origin rpy="0 0 0" xyz="-0.033 0 0.02071"/>
    <axis xyz="0.573576436 0 0.819152044"/>
    <limit effort="2" lower="0" upper="0.785398163397" velocity="2.0"/>
    <dynamics damping="0.1"/>
  </joint>
  <gazebo reference="rh_LFJ5">
    <provideFeedback>1</provideFeedback>
    <implicitSpringDamper>1</implicitSpringDamper>
  </gazebo>
  <transmission name="rh_lfmetacarpal_transmission">
    <type>sr_mechanism_model/SimpleTransmission</type>
    <actuator name="rh_LFJ5">
      <mechanicalReduction>1</mechanicalReduction>
    </actuator>
    <joint name="rh_LFJ5">
      <hardwareInterface>EffortJointInterface</hardwareInterface>
      <hardwareInterface>PositionJointInterface</hardwareInterface>
    </joint>
  </transmission>
  <!-- prefix can be anything but usually is "r_" or  "l_" for right and left hands distinction -->
  <gazebo reference="rh_lfmetacarpal">
    <sensor name="rh_lfmetacarpal_contact" type="contact">
      <always_on>1</always_on>
      <update_rate>1000.0</update_rate>
      <contact>
        <collision>rh_lfmetacarpal_collision</collision>
        <topic>rh_lfmetacarpal_collision</topic>
      </contact>
      <plugin filename="libgazebo_ros_bumper.so" name="rh_lfmetacarpal_gazebo_ros_bumper_controller">
        <alwaysOn>true</alwaysOn>
        <frameName>rh_lfmetacarpal</frameName>
        <updateRate>100.0</updateRate>
        <bumperTopicName>contacts/rh_lf/metacarpal</bumperTopicName>
      </plugin>
    </sensor>
    <selfCollide>true</selfCollide>
  </gazebo>
  <link name="rh_lfknuckle">
    <inertial>
      <origin rpy="0 0 0" xyz="0 0 0"/>
      <mass value="0.008"/>
      <inertia ixx="0.00000026" ixy="0.0" ixz="0.0" iyy="0.00000026" iyz="0.0" izz="0.00000032"/>
    </inertial>
    <visual>
      <origin rpy="0 0 0" xyz="0 0 0.0005"/>
      <geometry name="rh_lfknuckle_visual">
        <mesh filename="meshes/knuckle.dae" scale="0.001 0.001 0.001"/>
      </geometry>
      <material name="LightGrey"/>
    </visual>
    <collision>
      <origin rpy="0 1.5708 0" xyz="0 0 0"/>
      <geometry name="rh_lfknuckle_collision_geom">
        <cylinder length="0.014" radius="0.007"/>
      </geometry>
    </collision>
  </link>
  <joint name="rh_LFJ4" type="revolute">
    <parent link="rh_lfmetacarpal"/>
    <child link="rh_lfknuckle"/>
    <!--<origin xyz="0.033 0 0.095" rpy="0 0 0" />-->
    <origin rpy="0 0 0" xyz="0 0 0.06579"/>
    <axis xyz="0 1.0 0"/>
    <limit effort="2" lower="-0.349065850399" upper="0.349065850399" velocity="2.0"/>
    <dynamics damping="0.1"/>
  </joint>
  <gazebo reference="rh_LFJ4">
    <provideFeedback>1</provideFeedback>
    <implicitSpringDamper>1</implicitSpringDamper>
  </gazebo>
  <transmission name="rh_lfknuckle_transmission">
    <type>sr_mechanism_model/SimpleTransmission</type>
    <actuator name="rh_LFJ4">
      <mechanicalReduction>1</mechanicalReduction>
    </actuator>
    <joint name="rh_LFJ4">
      <hardwareInterface>EffortJointInterface</hardwareInterface>
      <hardwareInterface>PositionJointInterface</hardwareInterface>
    </joint>
  </transmission>
  <!-- prefix can be anything but usually is "r_" or  "l_" for right and left hands distinction -->
  <gazebo reference="rh_lfknuckle">
    <sensor name="rh_lfknuckle_contact" type="contact">
      <always_on>1</always_on>
      <update_rate>1000.0</update_rate>
      <contact>
        <collision>rh_lfknuckle_collision</collision>
        <topic>rh_lfknuckle_collision</topic>
      </contact>
      <plugin filename="libgazebo_ros_bumper.so" name="rh_lfknuckle_gazebo_ros_bumper_controller">
        <alwaysOn>true</alwaysOn>
        <frameName>rh_lfknuckle</frameName>
        <updateRate>100.0</updateRate>
        <bumperTopicName>contacts/rh_lf/knuckle</bumperTopicName>
      </plugin>
    </sensor>
    <material>Gazebo/Grey</material>
  </gazebo>
  <link name="rh_lfproximal">
    <inertial>
      <mass value="0.030"/>
      <origin xyz="0 0 0.0225"/>
      <inertia ixx="0.0000098" ixy="0.0" ixz="0.0" iyy="0.00001" iyz="0.0" izz="0.0000018"/>
    </inertial>
    <visual>
      <origin rpy="0 0 0" xyz="0 0 0"/>
      <geometry name="rh_lfproximal_visual">
        <mesh filename="meshes/F3.dae" scale="0.001 0.001 0.001"/>
      </geometry>
      <material name="Grey"/>
    </visual>
    <collision>
      <origin rpy="0 0 0" xyz="0 0 0.025"/>
      <geometry name="rh_lfproximal_collision_geom">
        <cylinder length="0.040" radius="0.007"/>
      </geometry>
    </collision>
  </link>
  <joint name="rh_LFJ3" type="revolute">
    <parent link="rh_lfknuckle"/>
    <child link="rh_lfproximal"/>
    <origin rpy="0 0 0" xyz="0 0 0"/>
    <axis xyz="1 0 0"/>
    <limit effort="2" lower="0" upper="1.57079632679" velocity="2.0"/>
    <dynamics damping="0.1"/>
  </joint>
  <gazebo reference="rh_LFJ3">
    <provideFeedback>1</provideFeedback>
    <implicitSpringDamper>1</implicitSpringDamper>
  </gazebo>
  <transmission name="rh_lfproximal_transmission">
    <type>sr_mechanism_model/SimpleTransmission</type>
    <actuator name="rh_LFJ3">
      <mechanicalReduction>1</mechanicalReduction>
    </actuator>
    <joint name="rh_LFJ3">
      <hardwareInterface>EffortJointInterface</hardwareInterface>
      <hardwareInterface>PositionJointInterface</hardwareInterface>
    </joint>
  </transmission>
  <!-- prefix can be anything but usually is "r_" or  "l_" for right and left hands distinction -->
  <gazebo reference="rh_lfproximal">
    <sensor name="rh_lfproximal_contact" type="contact">
      <always_on>1</always_on>
      <update_rate>1000.0</update_rate>
      <contact>
        <collision>rh_lfproximal_collision</collision>
        <topic>rh_lfproximal_collision</topic>
      </contact>
      <plugin filename="libgazebo_ros_bumper.so" name="rh_lfproximal_gazebo_ros_bumper_controller">
        <alwaysOn>true</alwaysOn>
        <frameName>rh_lfproximal</frameName>
        <updateRate>100.0</updateRate>
        <bumperTopicName>contacts/rh_lf/proximal</bumperTopicName>
      </plugin>
    </sensor>
    <selfCollide>true</selfCollide>
  </gazebo>
  <link name="rh_lfmiddle">
    <inertial>
      <origin rpy="0 0 0" xyz="0 0 0.0125"/>
      <mass value="0.017"/>
      <inertia ixx="0.0000026" ixy="0.0" ixz="0.0" iyy="0.0000027" iyz="0.0" izz="0.00000087"/>
    </inertial>
    <visual>
      <origin rpy="0 0 0" xyz="0 0 0"/>
      <geometry name="rh_lfmiddle_visual">
        <mesh filename="meshes/F2.dae" scale="0.001 0.001 0.001"/>
      </geometry>
      <material name="Grey"/>
    </visual>
    <collision>
      <origin rpy="0 0 0" xyz="0 0 0.0125"/>
      <geometry name="rh_lfmiddle_collision_geom">
        <cylinder length="0.025" radius="0.007"/>
      </geometry>
    </collision>
    <collision>
      <origin rpy="0 0 0" xyz="0 0 0.0"/>
      <geometry>
        <sphere radius="0.007"/>
      </geometry>
    </collision>
    <collision>
      <origin rpy="0 0 0" xyz="0 0 0.025"/>
      <geometry>
        <sphere radius="0.007"/>
      </geometry>
    </collision>
  </link>
  <joint name="rh_LFJ2" type="revolute">
    <parent link="rh_lfproximal"/>
    <child link="rh_lfmiddle"/>
    <origin rpy="0 0 0" xyz="0 0 0.045"/>
    <axis xyz="1 0 0"/>
    <limit effort="2" lower="0" upper="1.57079632679" velocity="2.0"/>
    <dynamics damping="0.1"/>
  </joint>
  <gazebo reference="rh_LFJ2">
    <provideFeedback>1</provideFeedback>
    <implicitSpringDamper>1</implicitSpringDamper>
  </gazebo>
  <transmission name="rh_lfmiddle_transmission">
    <type>sr_mechanism_model/J0Transmission</type>
    <actuator name="rh_LFJ0">
      <mechanicalReduction>1</mechanicalReduction>
    </actuator>
    <joint name="rh_LFJ1">
      <hardwareInterface>EffortJointInterface</hardwareInterface>
      <hardwareInterface>PositionJointInterface</hardwareInterface>
    </joint>
    <secondJoint name="rh_LFJ2"/>
  </transmission>
  <!-- prefix can be anything but usually is "r_" or  "l_" for right and left hands distinction -->
  <gazebo reference="rh_lfmiddle">
    <sensor name="rh_lfmiddle_contact" type="contact">
      <always_on>1</always_on>
      <update_rate>1000.0</update_rate>
      <contact>
        <collision>rh_lfmiddle_collision</collision>
        <topic>rh_lfmiddle_collision</topic>
      </contact>
      <plugin filename="libgazebo_ros_bumper.so" name="rh_lfproximal_gazebo_ros_bumper_controller">
        <alwaysOn>true</alwaysOn>
        <frameName>rh_lfmiddle</frameName>
        <updateRate>100.0</updateRate>
        <bumperTopicName>contacts/rh_lf/middle</bumperTopicName>
      </plugin>
    </sensor>
    <selfCollide>true</selfCollide>
  </gazebo>
  <link name="rh_lfdistal">
    <inertial>
      <mass value="0.012"/>
      <origin xyz="0 0 0.012"/>
      <inertia ixx="0.00000094" ixy="0.0" ixz="0.0" iyy="0.0000011" iyz="0.0" izz="0.00000053"/>
    </inertial>
    <visual>
      <origin rpy="0 0 0" xyz="0 0 0"/>
      <geometry name="rh_lfdistal_visual">
        <!-- Standard distal  -->
        <mesh filename="meshes/F1.dae" scale="0.001 0.001 0.001"/>
      </geometry>
      <material name="Grey"/>
    </visual>
    <collision>
      <origin rpy="0 0 0" xyz="0 0 0"/>
      <geometry name="rh_lfdistal_collision_geom">
        <!-- Standard distal  -->
        <mesh filename="meshes/F1.dae" scale="0.001 0.001 0.001"/>
      </geometry>
    </collision>
  </link>
  <joint name="rh_LFJ1" type="revolute">
    <parent link="rh_lfmiddle"/>
    <child link="rh_lfdistal"/>
    <origin rpy="0 0 0" xyz="0 0 0.025"/>
    <axis xyz="1 0 0"/>
    <!-- standard distal joint -->
    <limit effort="2" lower="0" upper="1.57079632679" velocity="2.0"/>
    <dynamics damping="0.1"/>
  </joint>
  <gazebo reference="rh_LFJ1">
    <provideFeedback>1</provideFeedback>
    <implicitSpringDamper>1</implicitSpringDamper>
  </gazebo>
  <link name="rh_lftip">
    <inertial>
      <mass value="0.001"/>
      <inertia ixx="0.0" ixy="0.0" ixz="0.0" iyy="0.0" iyz="0.0" izz="0.0"/>
    </inertial>
  </link>
  <joint name="rh_LFtip" type="fixed">
    <parent link="rh_lfdistal"/>
    <child link="rh_lftip"/>
    <origin rpy="0 0 0" xyz="0 0 0.026"/>
  </joint>
  <!-- prefix can be anything but usually is "r_" or  "l_" for right and left hands distinction -->
  <gazebo reference="rh_lfdistal">
    <sensor name="rh_lfdistal_contact" type="contact">
      <always_on>1</always_on>
      <update_rate>1000.0</update_rate>
      <contact>
        <collision>rh_lfdistal_collision</collision>
        <topic>rh_lfdistal_collision</topic>
      </contact>
      <plugin filename="libgazebo_ros_bumper.so" name="rh_lfdistal_gazebo_ros_bumper_controller">
        <alwaysOn>true</alwaysOn>
        <frameName>rh_lfdistal</frameName>
        <updateRate>100.0</updateRate>
        <bumperTopicName>contacts/rh_lf/distal</bumperTopicName>
      </plugin>
    </sensor>
    <mu1 value="500.0"/>
    <mu2 value="500.0"/>
    <kp value="10000000.0"/>
    <kd value="1.0"/>
    <selfCollide>true</selfCollide>
  </gazebo>
  <link name="rh_thbase">
    <inertial>
      <mass value="0.010"/>
      <origin rpy="0 0 0" xyz="0 0 0"/>
      <inertia ixx="0.00000016" ixy="0.0" ixz="0.0" iyy="0.00000016" iyz="0.0" izz="0.00000016"/>
    </inertial>
    <visual>
      <origin rpy="0 0 0" xyz="0 0 0"/>
      <geometry name="rh_thbase_visual">
        <box size="0.001 0.001 0.001"/>
      </geometry>
      <material name="shadow_thbase_material">
        <color rgba="0.5 0.5 0.5 1.0"/>
      </material>
    </visual>
    <collision>
      <origin rpy="0 0 0" xyz="0 0 0"/>
      <geometry name="rh_thbase_collision_geom">
        <sphere radius="0.011"/>
      </geometry>
    </collision>
  </link>
  <joint name="rh_THJ5" type="revolute">
    <parent link="rh_palm"/>
    <child link="rh_thbase"/>
    <origin rpy="0 0.785398163397 0.0" xyz="0.034 -0.0085 0.029"/>
    <axis xyz="0 0 -1.0"/>
    <limit effort="5.0" lower="-1.0471975512" upper="1.0471975512" velocity="4.0"/>
    <dynamics damping="0.2"/>
  </joint>
  <gazebo reference="rh_THJ5">
    <provideFeedback>1</provideFeedback>
    <implicitSpringDamper>1</implicitSpringDamper>
  </gazebo>
  <transmission name="rh_thbase_transmission">
    <type>sr_mechanism_model/SimpleTransmission</type>
    <actuator name="rh_THJ5">
      <mechanicalReduction>1</mechanicalReduction>
    </actuator>
    <joint name="rh_THJ5">
      <hardwareInterface>EffortJointInterface</hardwareInterface>
      <hardwareInterface>PositionJointInterface</hardwareInterface>
    </joint>
  </transmission>
  <!-- prefix can be anything but usually is "r_" or  "l_" for right and left hands distinction -->
  <gazebo reference="rh_thbase">
    <sensor name="rh_thbase_contact" type="contact">
      <always_on>1</always_on>
      <update_rate>1000.0</update_rate>
      <contact>
        <collision>rh_thbase_collision</collision>
        <topic>rh_thbase_collision</topic>
      </contact>
      <plugin filename="libgazebo_ros_bumper.so" name="rh_thbase_gazebo_ros_bumper_controller">
        <alwaysOn>true</alwaysOn>
        <frameName>rh_thbase</frameName>
        <updateRate>100.0</updateRate>
        <bumperTopicName>contacts/rh_th/base</bumperTopicName>
      </plugin>
    </sensor>
    <selfCollide>false</selfCollide>
  </gazebo>
  <link name="rh_thproximal">
    <inertial>
      <mass value="0.040"/>
      <origin rpy="0 0 0" xyz="0 0 0.019"/>
      <inertia ixx="0.0000136" ixy="0.0" ixz="0.0" iyy="0.0000136" iyz="0.0" izz="0.00000313"/>
    </inertial>
    <visual>
      <origin rpy="0 0 0" xyz="0 0 0"/>
      <geometry name="rh_thproximal_visual">
        <mesh filename="meshes/TH3_z.dae" scale="0.001 0.001 0.001"/>
      </geometry>
      <material name="shadow_thproximal_material">
        <color rgba="0.2 0.2 0.2 1.0"/>
      </material>
    </visual>
    <collision>
      <origin rpy="0 0 0" xyz="0 0 0.020"/>
      <geometry name="rh_thproximal_collision_geom">
        <cylinder length="0.018" radius="0.012"/>
      </geometry>
    </collision>
  </link>
  <joint name="rh_THJ4" type="revolute">
    <parent link="rh_thbase"/>
    <child link="rh_thproximal"/>
    <origin rpy="0 0 0" xyz="0 0 0"/>
    <axis xyz="1.0 0 0"/>
    <limit effort="3" lower="0.0" upper="1.2217304764" velocity="4.0"/>
    <dynamics damping="0.2"/>
  </joint>
  <gazebo reference="rh_THJ4">
    <provideFeedback>1</provideFeedback>
    <implicitSpringDamper>1</implicitSpringDamper>
  </gazebo>
  <transmission name="rh_thproximal_transmission">
    <type>sr_mechanism_model/SimpleTransmission</type>
    <actuator name="rh_THJ4">
      <mechanicalReduction>1</mechanicalReduction>
    </actuator>
    <joint name="rh_THJ4">
      <hardwareInterface>EffortJointInterface</hardwareInterface>
      <hardwareInterface>PositionJointInterface</hardwareInterface>
    </joint>
  </transmission>
  <!-- prefix can be anything but usually is "r_" or  "l_" for right and left hands distinction -->
  <gazebo reference="rh_thproximal">
    <sensor name="rh_thproximal_contact" type="contact">
      <always_on>1</always_on>
      <update_rate>1000.0</update_rate>
      <contact>
        <collision>rh_thproximal_collision</collision>
        <topic>rh_thproximal_collision</topic>
      </contact>
      <plugin filename="libgazebo_ros_bumper.so" name="rh_thproximal_gazebo_ros_bumper_controller">
        <alwaysOn>true</alwaysOn>
        <frameName>rh_thproximal</frameName>
        <updateRate>100.0</updateRate>
        <bumperTopicName>contacts/rh_th/proximal</bumperTopicName>
      </plugin>
    </sensor>
    <selfCollide>false</selfCollide>
  </gazebo>
  <link name="rh_thhub">
    <inertial>
      <mass value="0.005"/>
      <origin rpy="0 0 0" xyz="0 0 0"/>
      <inertia ixx="0.000001" ixy="0.0" ixz="0.0" iyy="0.000001" iyz="0.0" izz="0.0000003"/>
    </inertial>
    <visual>
      <origin rpy="0 0 0" xyz="0 0 0"/>
      <geometry name="rh_thhub_visual">
        <box size="0.001 0.001 0.001"/>
      </geometry>
      <material name="shadow_thhub_material">
        <color rgba="0.7 0.7 0.7 1.0"/>
      </material>
    </visual>
    <collision>
      <origin rpy="0 0 0" xyz="0 0 0"/>
      <geometry name="rh_thhub_collision_geom">
        <sphere radius="0.010"/>
      </geometry>
    </collision>
  </link>
  <joint name="rh_THJ3" type="revolute">
    <parent link="rh_thproximal"/>
    <child link="rh_thhub"/>
    <origin rpy="0 0 0" xyz="0 0 0.038"/>
    <axis xyz="1 0 0"/>
    <limit effort="2.0" lower="-0.209439510239" upper="0.209439510239" velocity="4.0"/>
    <dynamics damping="0.2"/>
  </joint>
  <gazebo reference="rh_THJ3">
    <provideFeedback>1</provideFeedback>
    <implicitSpringDamper>1</implicitSpringDamper>
  </gazebo>
  <transmission name="rh_thhub_transmission">
    <type>sr_mechanism_model/SimpleTransmission</type>
    <actuator name="rh_THJ3">
      <mechanicalReduction>1</mechanicalReduction>
    </actuator>
    <joint name="rh_THJ3">
      <hardwareInterface>EffortJointInterface</hardwareInterface>
      <hardwareInterface>PositionJointInterface</hardwareInterface>
    </joint>
  </transmission>
  <!-- prefix can be anything but usually is "r_" or  "l_" for right and left hands distinction -->
  <gazebo reference="rh_thhub">
    <sensor name="rh_thhub_contact" type="contact">
      <always_on>1</always_on>
      <update_rate>1000.0</update_rate>
      <contact>
        <collision>rh_thhub_collision</collision>
        <topic>rh_thhub_collision</topic>
      </contact>
      <plugin filename="libgazebo_ros_bumper.so" name="rh_thhub_gazebo_ros_bumper_controller">
        <alwaysOn>true</alwaysOn>
        <frameName>rh_thhub</frameName>
        <updateRate>100.0</updateRate>
        <bumperTopicName>contacts/rh_th/hub</bumperTopicName>
      </plugin>
    </sensor>
    <selfCollide>true</selfCollide>
  </gazebo>
  <link name="rh_thmiddle">
    <inertial>
      <mass value="0.020"/>
      <origin rpy="0 0 0" xyz="0 0 0.016"/>
      <inertia ixx="0.0000051" ixy="0.0" ixz="0.0" iyy="0.0000051" iyz="0.0" izz="0.00000121"/>
    </inertial>
    <visual>
      <origin rpy="0 0 0" xyz="0 0 0"/>
      <geometry name="rh_thmiddle_visual">
        <mesh filename="meshes/TH2_z.dae" scale="0.001 0.001 0.001"/>
      </geometry>
      <material name="shadow_thmiddle_material">
        <color rgba="0.2 0.2 0.2 1.0"/>
      </material>
    </visual>
    <collision>
      <origin rpy="0 0 0" xyz="0 0 0.012"/>
      <geometry name="rh_thmiddle_collision_geom">
        <cylinder length="0.018" radius="0.011"/>
      </geometry>
    </collision>
    <collision>
      <origin rpy="0 0 0" xyz="0 0 0.019"/>
      <geometry>
        <sphere radius="0.011"/>
      </geometry>
    </collision>
  </link>
  <joint name="rh_THJ2" type="revolute">
    <parent link="rh_thhub"/>
    <child link="rh_thmiddle"/>
    <origin rpy="0 0 0" xyz="0 0 0"/>
    <axis xyz="0 -1 0"/>
    <limit effort="2.0" lower="-0.698131700798" upper="0.698131700798" velocity="2.0"/>
    <dynamics damping="0.1"/>
  </joint>
  <gazebo reference="rh_THJ2">
    <provideFeedback>1</provideFeedback>
    <implicitSpringDamper>1</implicitSpringDamper>
  </gazebo>
  <transmission name="rh_thmiddle_transmission">
    <type>sr_mechanism_model/SimpleTransmission</type>
    <actuator name="rh_THJ2">
      <mechanicalReduction>1</mechanicalReduction>
    </actuator>
    <joint name="rh_THJ2">
      <hardwareInterface>EffortJointInterface</hardwareInterface>
      <hardwareInterface>PositionJointInterface</hardwareInterface>
    </joint>
  </transmission>
  <!-- prefix can be anything but usually is "r_" or  "l_" for right and left hands distinction -->
  <gazebo reference="rh_thmiddle">
    <sensor name="rh_thmiddle_contact" type="contact">
      <always_on>1</always_on>
      <update_rate>1000.0</update_rate>
      <contact>
        <collision>rh_thmiddle_collision</collision>
        <topic>rh_thmiddle_collision</topic>
      </contact>
      <plugin filename="libgazebo_ros_bumper.so" name="rh_thmiddle_gazebo_ros_bumper_controller">
        <alwaysOn>true</alwaysOn>
        <frameName>rh_thmiddle</frameName>
        <updateRate>100.0</updateRate>
        <bumperTopicName>contacts/rh_th/middle</bumperTopicName>
      </plugin>
    </sensor>
    <selfCollide>true</selfCollide>
  </gazebo>
  <!-- common -->
  <link name="rh_thdistal">
    <inertial>
      <mass value="0.016"/>
      <origin rpy="0 0 0" xyz="0 0 0.01375"/>
      <inertia ixx="0.0000021" ixy="0.0" ixz="0.0" iyy="0.0000022" iyz="0.0" izz="0.000001"/>
    </inertial>
    <visual>
      <origin rpy="0 0 0" xyz="0 0 0"/>
      <geometry name="rh_thdistal_visual">
        <!-- Standard distal  -->
        <mesh filename="meshes/TH1_z.dae" scale="0.001 0.001 0.001"/>
      </geometry>
      <material name="shadow_thmiddle_material">
        <color rgba="0.2 0.2 0.2 1.0"/>
      </material>
    </visual>
    <collision>
      <origin rpy="0 0 0" xyz="0 0 0"/>
      <geometry name="rh_thmiddle_collision_geom">
        <!-- Standard distal  -->
        <mesh filename="meshes/TH1_z.dae" scale="0.001 0.001 0.001"/>
        <!--      <box size="0.015 0.015 0.015" /> -->
      </geometry>
    </collision>
  </link>
  <joint name="rh_THJ1" type="revolute">
    <parent link="rh_thmiddle"/>
    <child link="rh_thdistal"/>
    <origin rpy="0 0 -1.57079632679" xyz="0 0 0.032"/>
    <axis xyz="1 0 0"/>
    <limit effort="1.0" lower="0" upper="1.57079632679" velocity="4.0"/>
    <dynamics damping="0.2"/>
  </joint>
  <gazebo reference="rh_THJ1">
    <provideFeedback>1</provideFeedback>
    <implicitSpringDamper>1</implicitSpringDamper>
  </gazebo>
  <link name="rh_thtip">
    <inertial>
      <mass value="0.001"/>
      <inertia ixx="0.0" ixy="0.0" ixz="0.0" iyy="0.0" iyz="0.0" izz="0.0"/>
    </inertial>
  </link>
  <joint name="rh_thtip" type="fixed">
    <parent link="rh_thdistal"/>
    <child link="rh_thtip"/>
    <origin rpy="0 0 0" xyz="0 0 0.0275"/>
  </joint>
  <!-- prefix can be anything but usually is "r_" or  "l_" for right and left hands distinction -->
  <gazebo reference="rh_thdistal">
    <sensor name="rh_thdistal_contact" type="contact">
      <always_on>1</always_on>
      <update_rate>1000.0</update_rate>
      <contact>
        <collision>rh_thdistal_collision</collision>
        <topic>rh_thdistal_collision</topic>
      </contact>
      <plugin filename="libgazebo_ros_bumper.so" name="rh_thdistal_gazebo_ros_bumper_controller">
        <alwaysOn>true</alwaysOn>
        <frameName>rh_thdistal</frameName>
        <updateRate>100.0</updateRate>
        <bumperTopicName>contacts/rh_th/distal</bumperTopicName>
      </plugin>
    </sensor>
    <mu1 value="500.0"/>
    <mu2 value="500.0"/>
    <kp value="10000000.0"/>
    <kd value="1.0"/>
    <selfCollide>true</selfCollide>
  </gazebo>
  <transmission name="rh_thdistal_transmission">
    <type>sr_mechanism_model/SimpleTransmission</type>
    <actuator name="rh_THJ1">
      <mechanicalReduction>1</mechanicalReduction>
    </actuator>
    <joint name="rh_THJ1">
      <hardwareInterface>EffortJointInterface</hardwareInterface>
      <hardwareInterface>PositionJointInterface</hardwareInterface>
    </joint>
  </transmission>
</robot>
